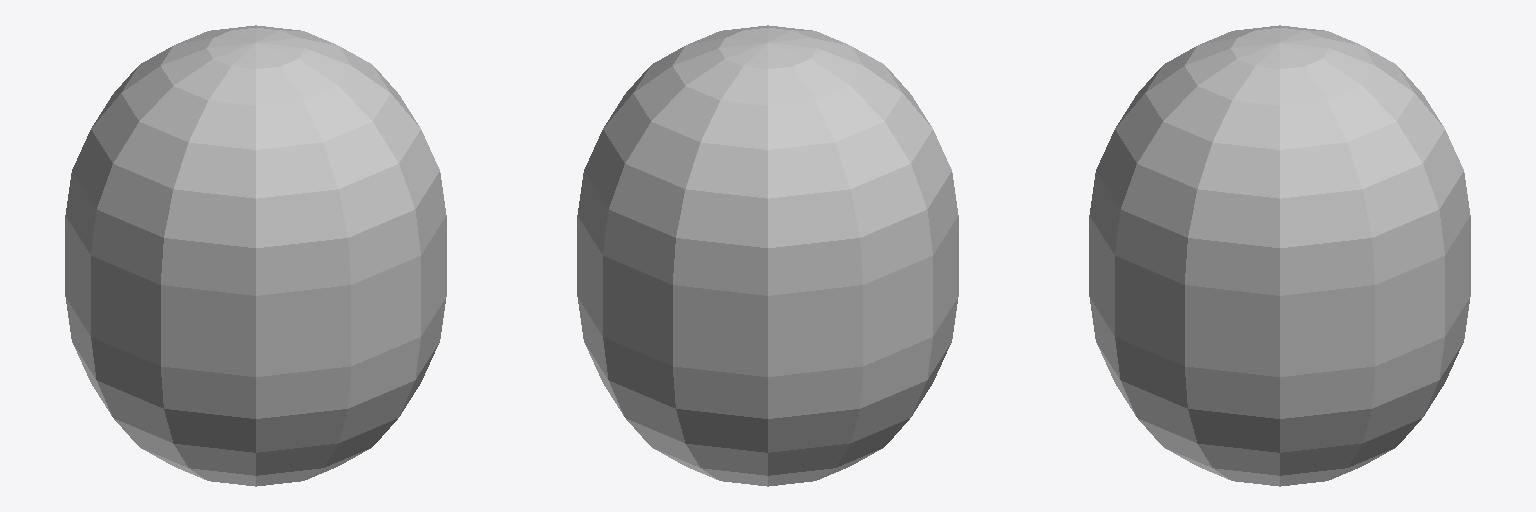
Rendered from Boya1.obj.
3 views of the same model, side by side, from view 1: azimuth 30°, elevation 25°; view 2: azimuth 150°, elevation 25°; view 3: azimuth 270°, elevation 25° (orthographic).
Visible parts, largest first — view 1: Boya_2; view 2: Boya_2; view 3: Boya_2.
Boxes of the visible parts, x1,y1,x2,y2 form: Boya_2: [65, 25, 446, 486]; Boya_2: [577, 25, 958, 486]; Boya_2: [1089, 25, 1470, 486].
Bounding box in the file's own units: 42.81 × 52.9 × 42.81.